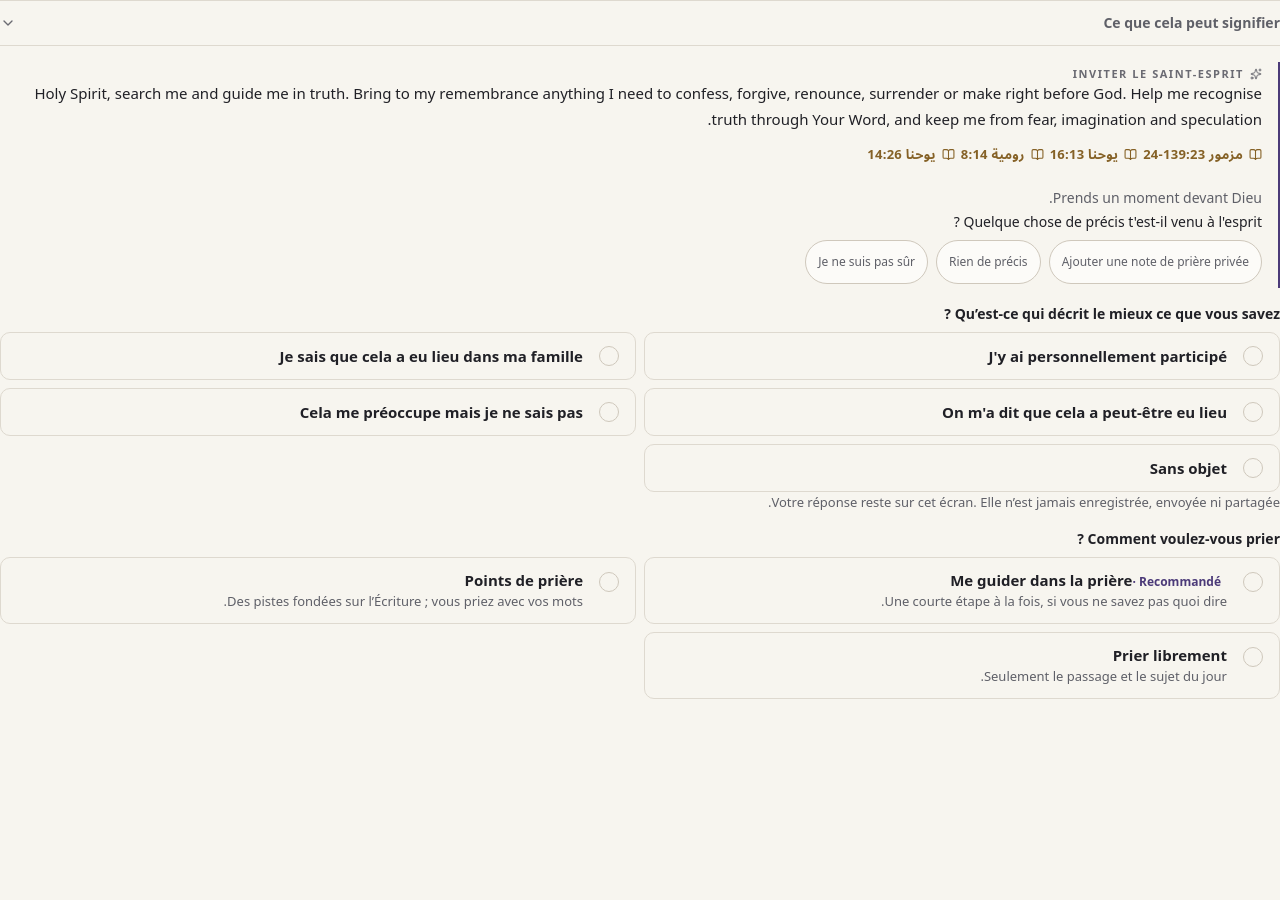
Test: the freedom plan day in a real RTL browser › walks the guided prayer forwards and backwards, in RTL, with long Arabic prayers
Step 1. Click the radio button labelled "J'y ai personnellement participé" → (1108, 356), box 644,332 -> 1279,380
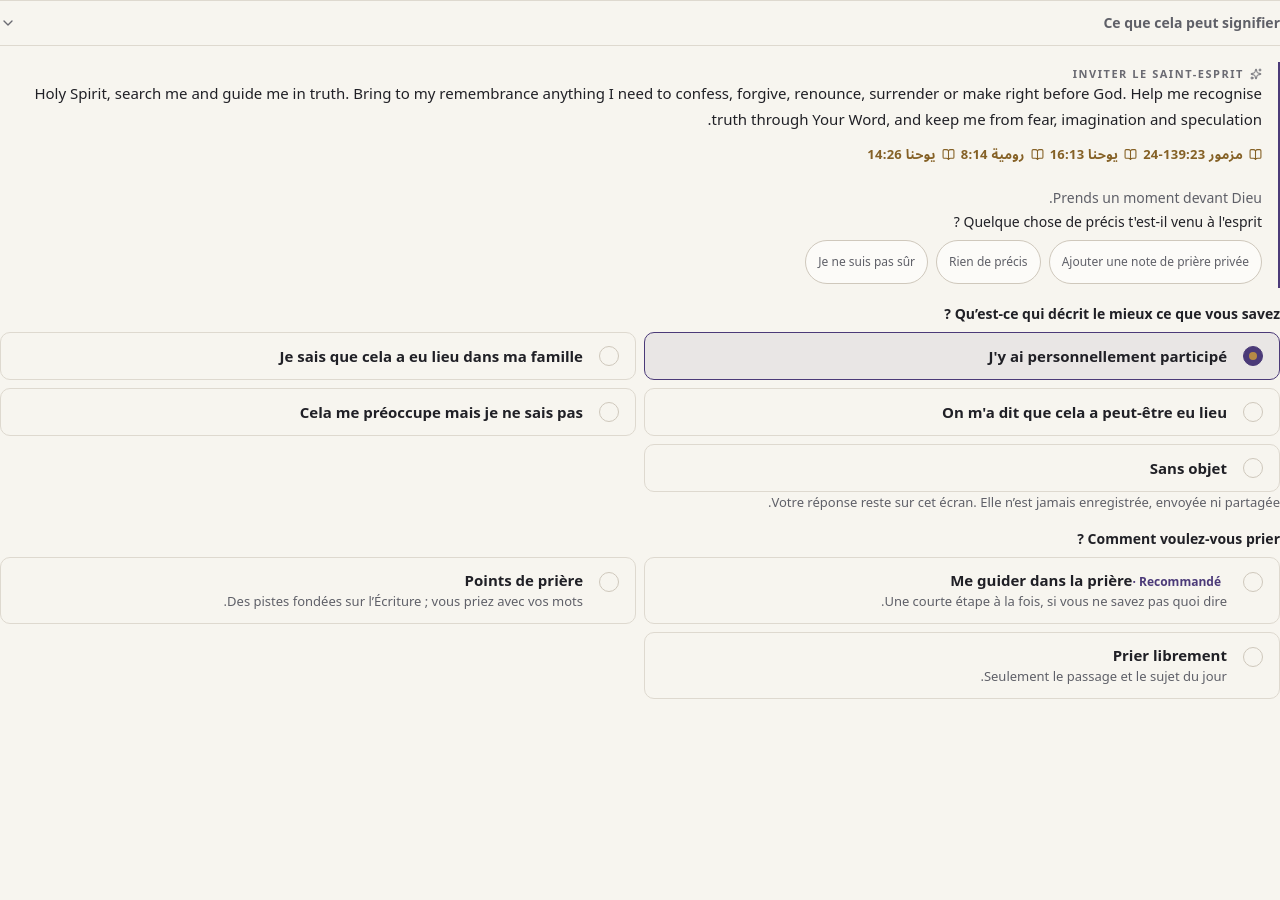
Step 2. Click the text "Me guider dans la prière" → (1086, 580), box 950,570 -> 1221,590
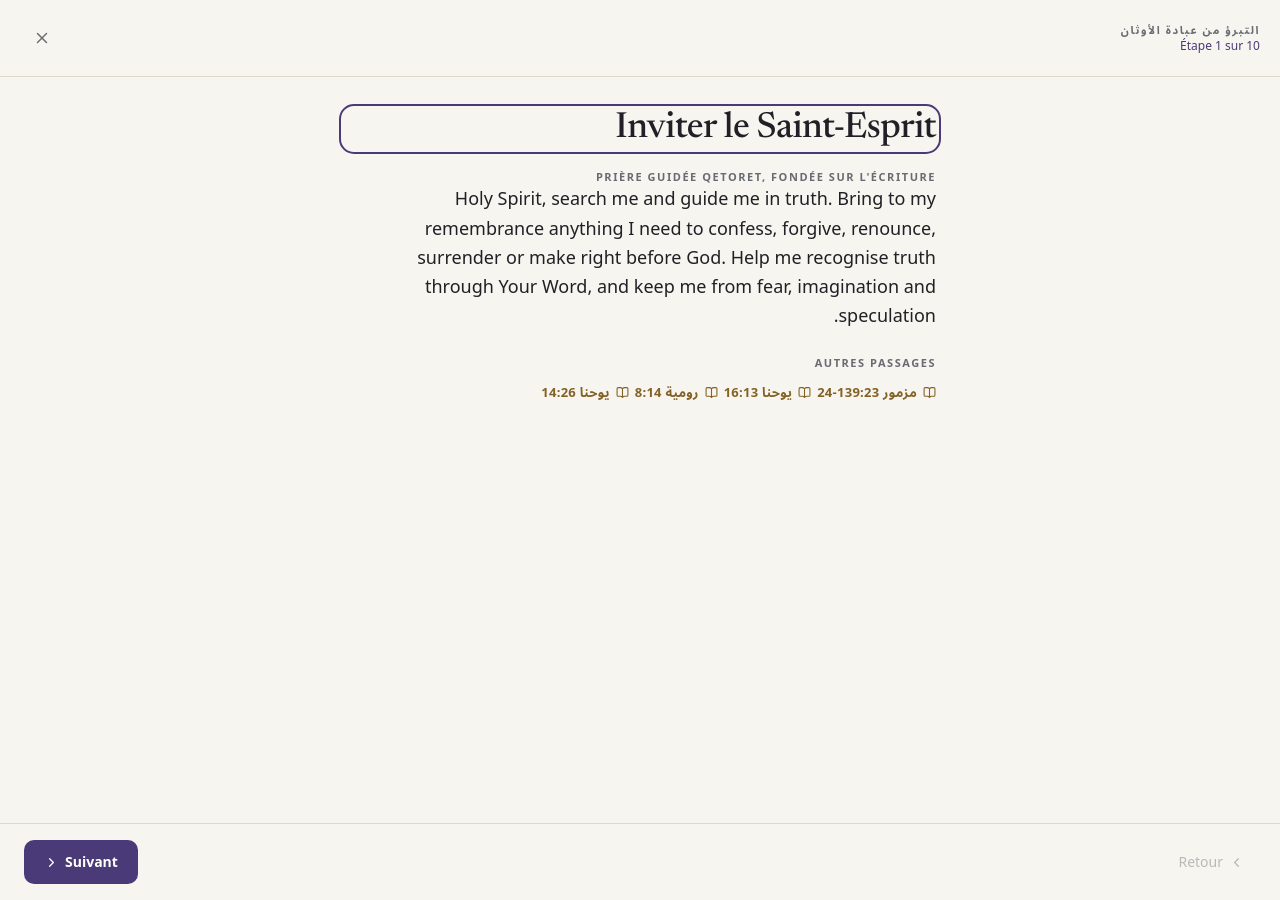
Expected: the heading "Inviter le Saint-Esprit" is shown, 615,111 -> 936,147
Step 3. Click the button "Suivant" → (81, 862), box 24,840 -> 138,884
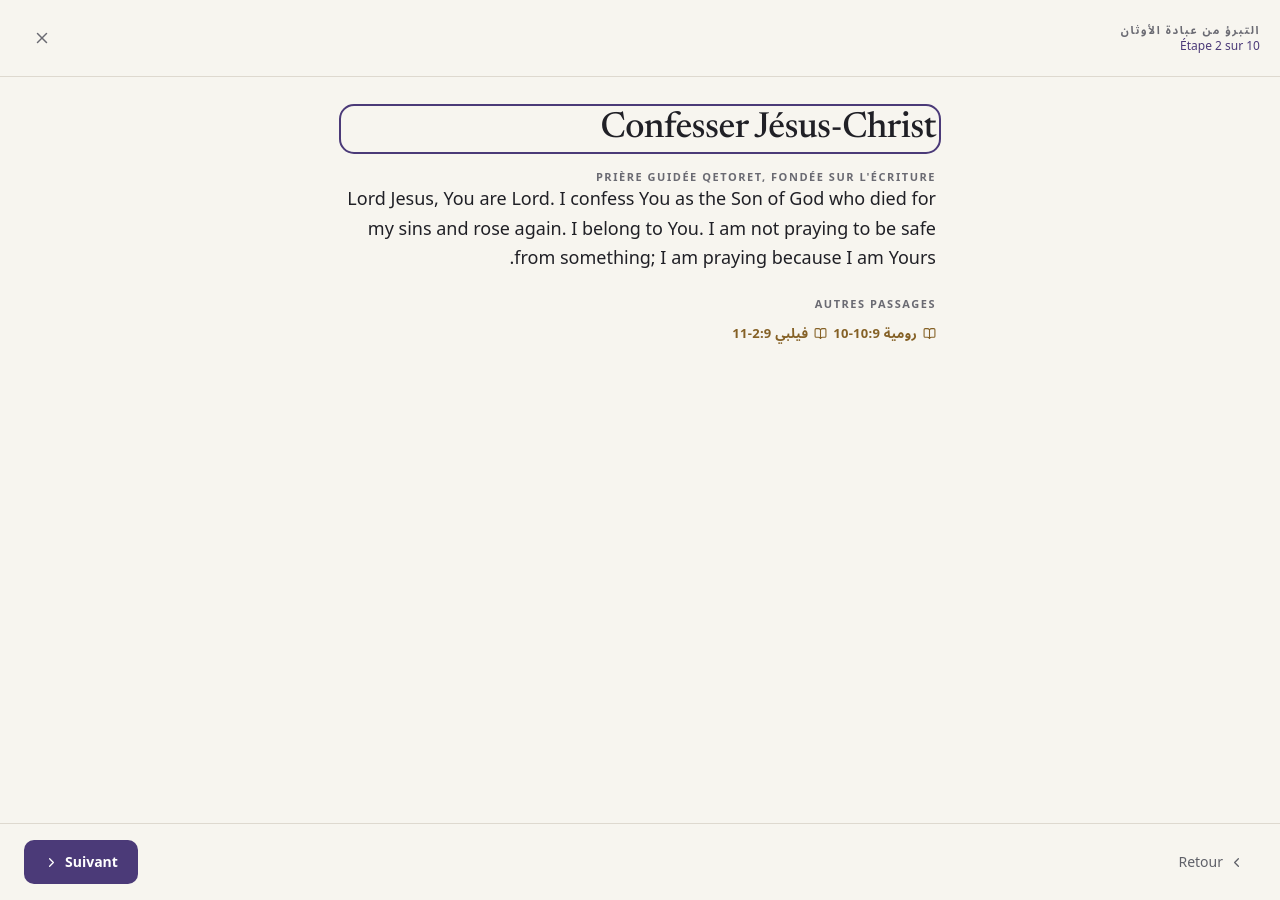
Expected: the heading no longer shows "Inviter le Saint-Esprit"
Step 4. Click the button "Retour" → (1211, 862), box 1166,840 -> 1256,884
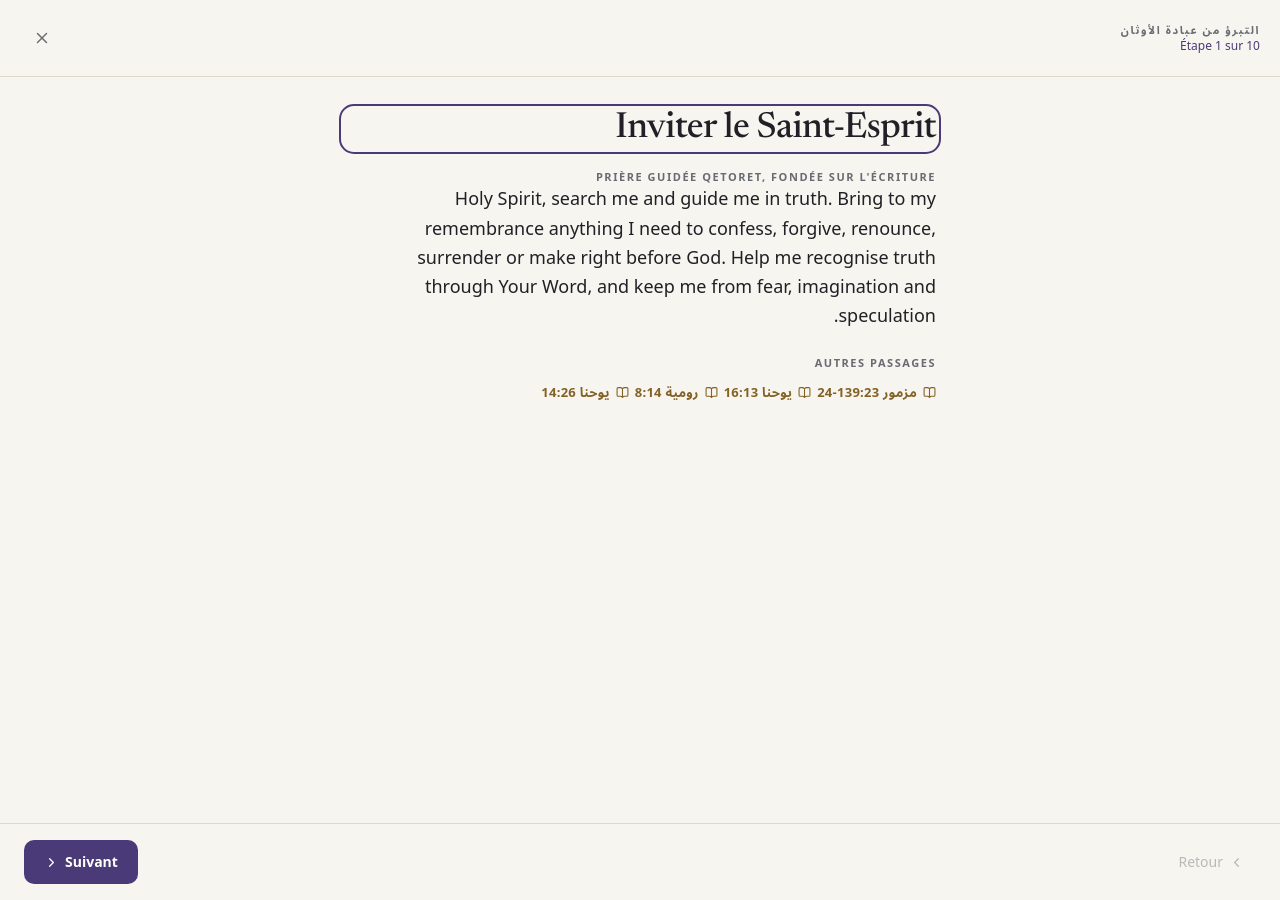
Expected: the heading "Inviter le Saint-Esprit" is shown, 615,111 -> 936,147
